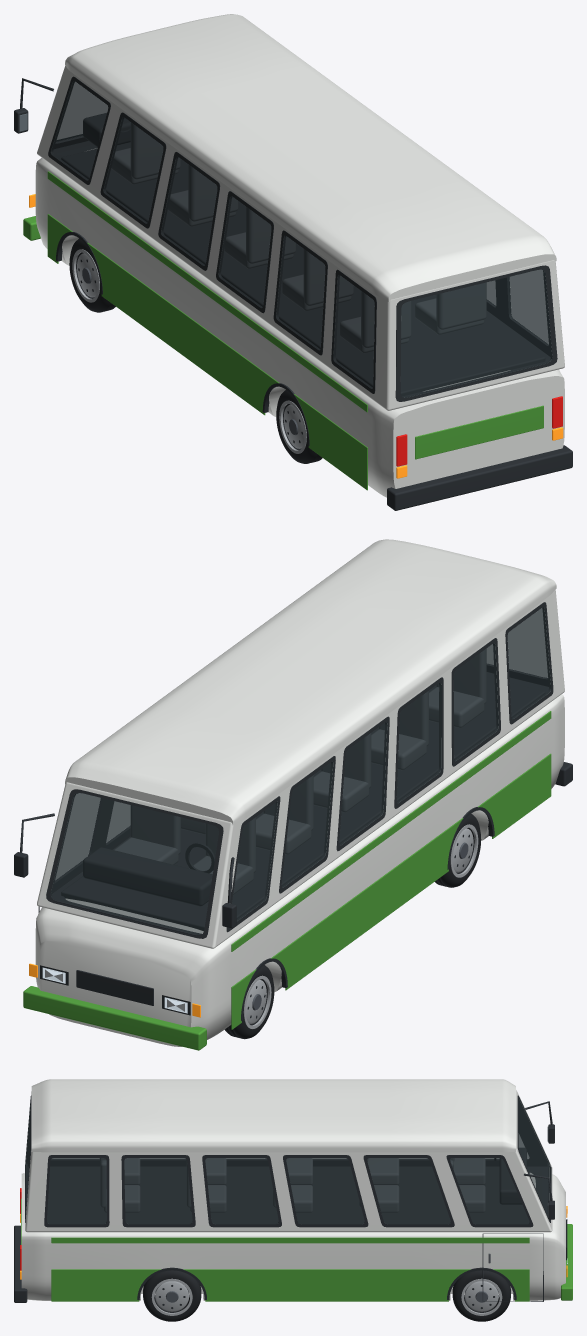
The model's file is zhangjiajie-shuttle.glb.
3 renders of one model, top to bottom at view 1: azimuth 30°, elevation 25°; view 2: azimuth 150°, elevation 25°; view 3: azimuth 270°, elevation 25°, orthographic. The views are drawn at different scales.
Visible parts, largest first — view 1: Body geometry, Running wheel geometry, Running wheel geometry.002; view 2: Body geometry, Running wheel geometry, Running wheel geometry.002; view 3: Body geometry, Running wheel geometry.001, Running wheel geometry.003.
Part boxes in pixels (x1=…): Body geometry: x1=14, y1=14, x2=572, y2=510; Running wheel geometry: x1=69, y1=238, x2=115, y2=312; Running wheel geometry.002: x1=276, y1=390, x2=322, y2=463; Body geometry: x1=14, y1=539, x2=572, y2=1050; Running wheel geometry: x1=224, y1=965, x2=274, y2=1039; Running wheel geometry.002: x1=435, y1=813, x2=481, y2=887; Body geometry: x1=14, y1=1079, x2=572, y2=1302; Running wheel geometry.001: x1=452, y1=1270, x2=510, y2=1321; Running wheel geometry.003: x1=143, y1=1270, x2=201, y2=1321.
Size of the model in its own units: 1.69 by 1.84 by 4.98.
